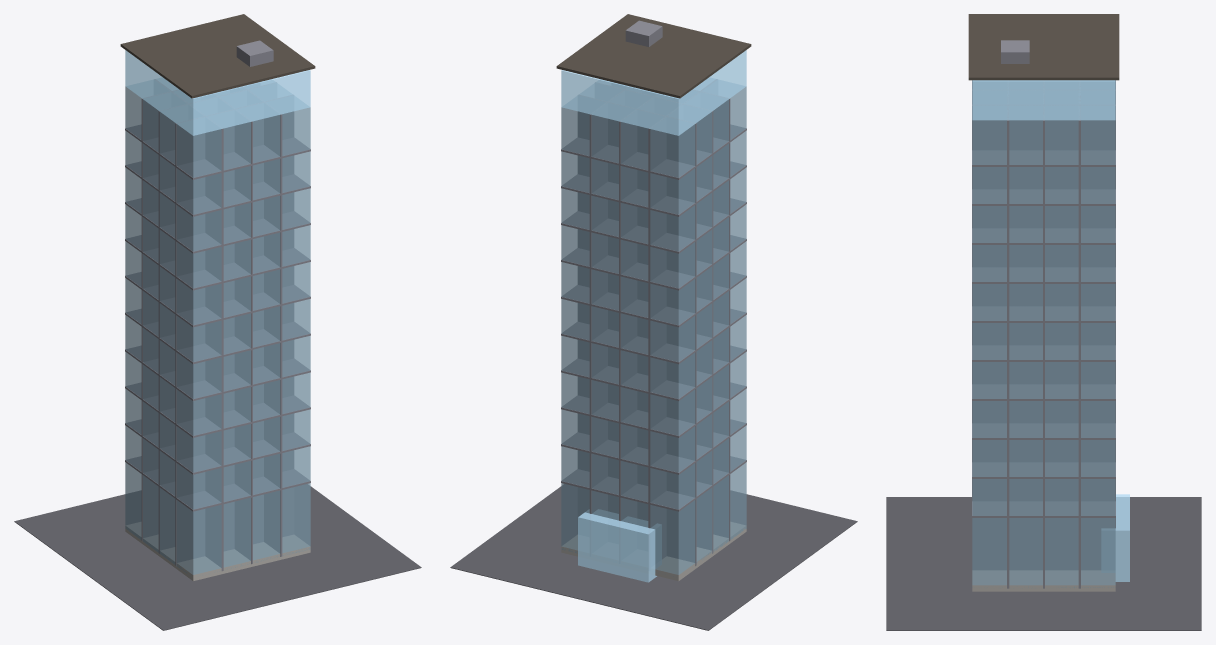
File: highrise_office.glb
3 views of the same model, side by side, from view 1: azimuth 30°, elevation 25°; view 2: azimuth 150°, elevation 25°; view 3: azimuth 270°, elevation 25° (orthographic). The views are drawn at different scales.
Parts seen in each view (by area): view 1: tower, plaza, mull_z_v_3, roof, top_floor, mull_v_3, mull_v_1, mull_v_2, mull_z_v_1, mull_z_v_2, foundation, mull_h_10 (+10 smaller); view 2: tower, plaza, mull_z_v_1, roof, top_floor, mull_z_v_3, mull_v_1, mull_v_3, mull_z_v_2, mull_v_2, lobby, mull_h_5 (+11 smaller); view 3: tower, mull_v_3, plaza, roof, top_floor, foundation, mull_h_6, mull_h_7, mull_h_8, mull_h_9, mull_h_10, mull_h_5 (+9 smaller).
Part boxes in pixels (x1,y1,x2,y2): tower: (125, 78, 310, 575); plaza: (14, 484, 421, 630); mull_z_v_3: (175, 95, 293, 565); roof: (120, 14, 315, 98); top_floor: (125, 50, 310, 135); mull_v_3: (243, 86, 282, 556); mull_v_1: (154, 79, 223, 571); mull_v_2: (214, 94, 252, 563); mull_z_v_1: (141, 90, 177, 541); mull_z_v_2: (158, 82, 276, 553); foundation: (125, 522, 310, 581); mull_h_10: (125, 125, 310, 179); tower: (561, 78, 746, 577); plaza: (450, 484, 857, 630); mull_z_v_1: (578, 95, 696, 565); roof: (556, 14, 751, 98); top_floor: (561, 50, 746, 135); mull_z_v_3: (694, 90, 730, 541); mull_v_1: (648, 79, 717, 570); mull_v_3: (589, 86, 628, 556); mull_z_v_2: (595, 82, 713, 553); mull_v_2: (619, 95, 655, 563); lobby: (578, 509, 661, 582); mull_h_5: (561, 309, 746, 364); tower: (972, 81, 1115, 588); mull_v_3: (972, 104, 1115, 573); plaza: (886, 497, 1201, 630); roof: (968, 14, 1119, 80); top_floor: (972, 80, 1115, 120); foundation: (972, 570, 1115, 591); mull_h_6: (972, 306, 1115, 322); mull_h_7: (972, 267, 1115, 283); mull_h_8: (972, 228, 1115, 244); mull_h_9: (972, 189, 1115, 205); mull_h_10: (972, 150, 1115, 166); mull_h_5: (972, 345, 1115, 361).
Bounding box in the file's own units: 22 × 40.8 × 22.
